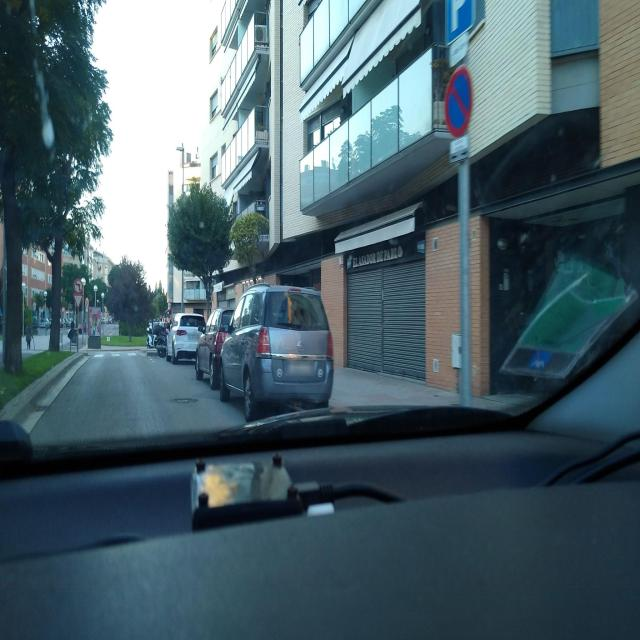forb_stopping: (444, 65, 472, 139), (85, 297, 89, 308)
